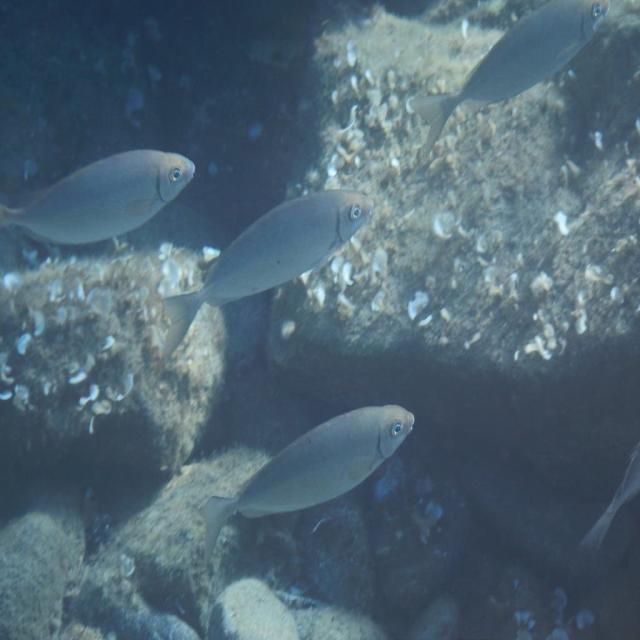Sokar Baligi: (178, 376, 436, 578), (0, 129, 209, 251)
